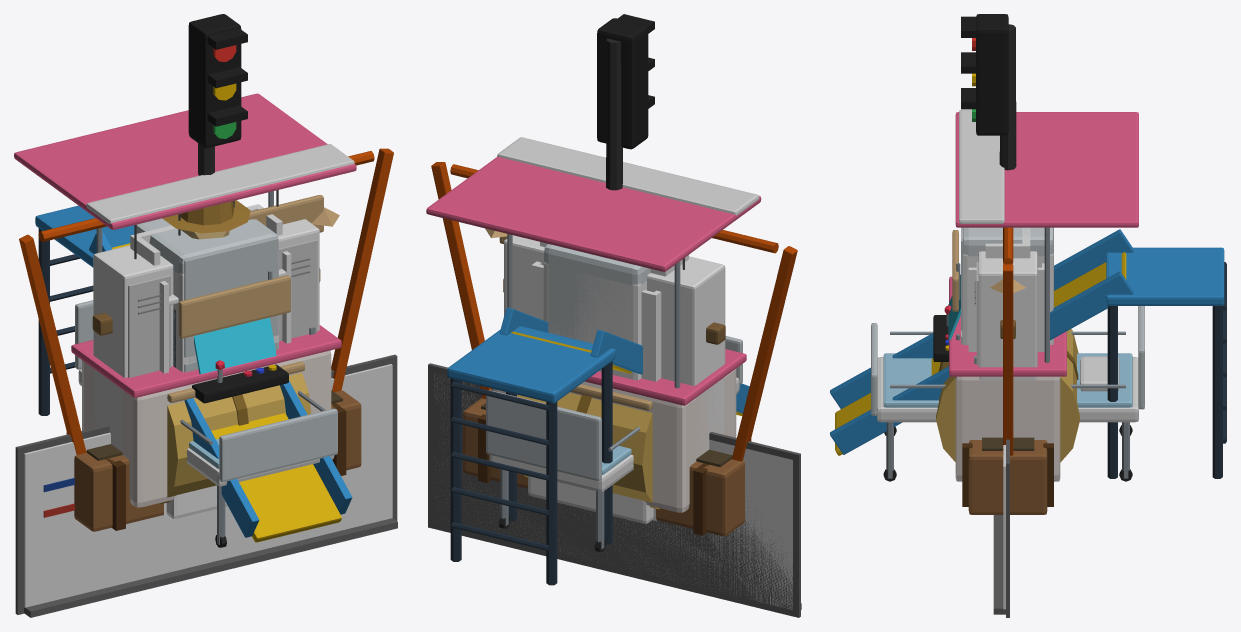
The model's file is furniture2.glb.
3 renders of one model, left to right at view 1: azimuth 30°, elevation 25°; view 2: azimuth 150°, elevation 25°; view 3: azimuth 270°, elevation 25°, orthographic. The views are drawn at different scales.
Parts seen in each view (by area): view 1: ice_cream_cart, whiteboard, slide, locker, hospital_bed, swing, traffic_light, fridge, trough, arcade_machine, signpost, hay_bale (+4 smaller); view 2: ice_cream_cart, whiteboard, slide, locker, hospital_bed, traffic_light, swing, trough, fridge, arcade_machine, hay_bale, counter (+1 smaller); view 3: ice_cream_cart, slide, hospital_bed, traffic_light, trough, locker, hay_bale, swing, whiteboard, arcade_machine, fridge, shelf_unit (+2 smaller).
Boxes of the visible parts, x1=… form: ice_cream_cart: x1=14, y1=93, x2=356, y2=507; whiteboard: x1=15, y1=354, x2=397, y2=617; slide: x1=35, y1=205, x2=352, y2=542; locker: x1=93, y1=219, x2=319, y2=454; hospital_bed: x1=75, y1=300, x2=337, y2=547; swing: x1=19, y1=148, x2=393, y2=454; traffic_light: x1=188, y1=14, x2=247, y2=175; fridge: x1=136, y1=218, x2=278, y2=372; trough: x1=66, y1=390, x2=361, y2=531; arcade_machine: x1=173, y1=252, x2=288, y2=403; signpost: x1=178, y1=195, x2=339, y2=338; hay_bale: x1=160, y1=373, x2=311, y2=503; ice_cream_cart: x1=426, y1=137, x2=761, y2=512; whiteboard: x1=428, y1=363, x2=801, y2=617; slide: x1=447, y1=307, x2=749, y2=585; locker: x1=504, y1=235, x2=725, y2=459; hospital_bed: x1=486, y1=336, x2=742, y2=551; traffic_light: x1=597, y1=14, x2=654, y2=190; swing: x1=431, y1=162, x2=797, y2=461; trough: x1=463, y1=398, x2=751, y2=536; fridge: x1=544, y1=244, x2=650, y2=341; arcade_machine: x1=543, y1=261, x2=646, y2=380; hay_bale: x1=517, y1=392, x2=659, y2=509; counter: x1=528, y1=384, x2=653, y2=523; ice_cream_cart: x1=949, y1=109, x2=1138, y2=479; slide: x1=830, y1=229, x2=1226, y2=478; hospital_bed: x1=871, y1=306, x2=1144, y2=481; traffic_light: x1=961, y1=14, x2=1016, y2=170; trough: x1=962, y1=437, x2=1053, y2=514; locker: x1=974, y1=251, x2=1037, y2=387; hay_bale: x1=936, y1=329, x2=1079, y2=462; swing: x1=1003, y1=227, x2=1013, y2=455; whiteboard: x1=993, y1=439, x2=1009, y2=617; arcade_machine: x1=933, y1=253, x2=1053, y2=361; fridge: x1=956, y1=227, x2=1053, y2=344; shelf_unit: x1=968, y1=263, x2=1044, y2=351.
Size of the model in its own units: 3.1 by 4.3 by 3.03.
